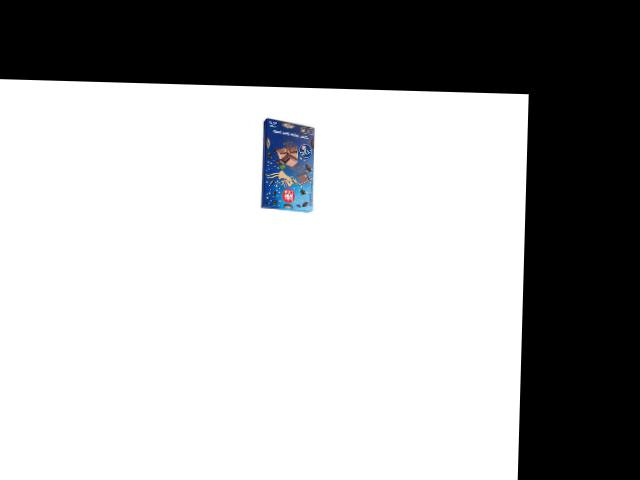chocolate: (254, 117, 321, 214)
